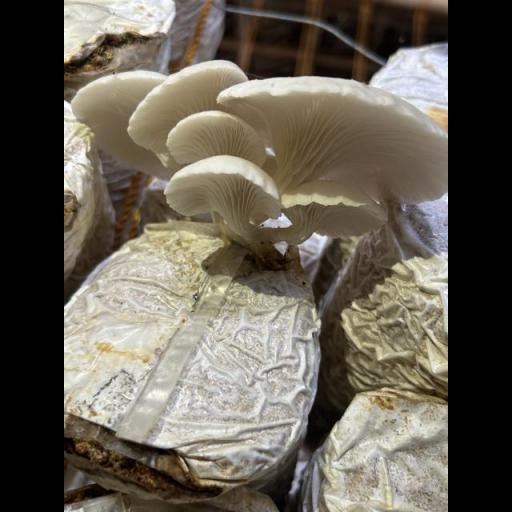White Oyster Mushroom: (72, 59, 444, 250)
